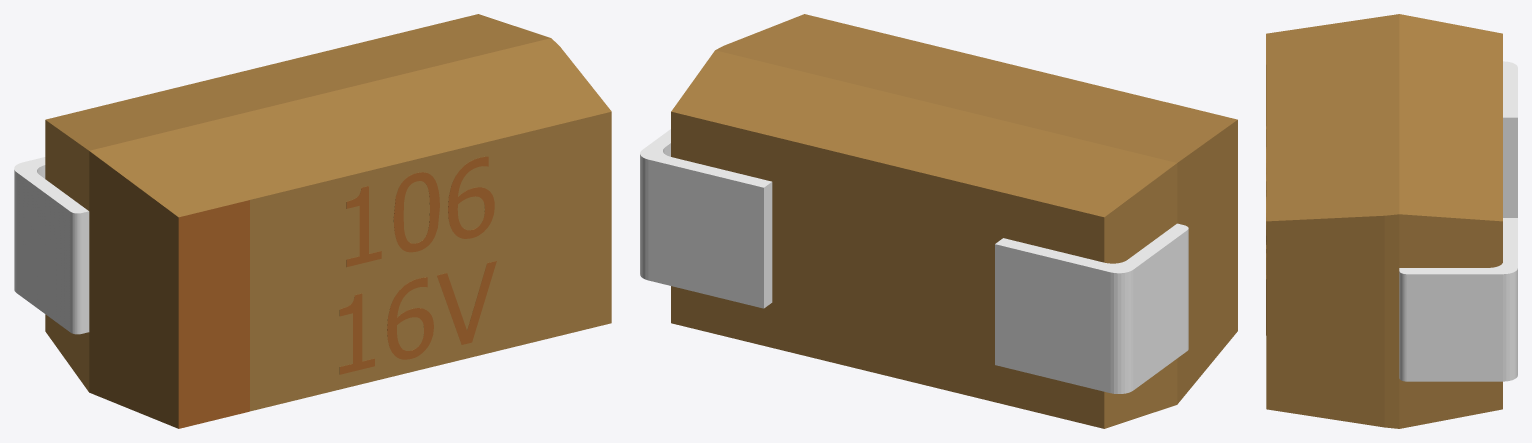
Rendered from tantalum 10uF.obj.
The picture shows the model from 3 angles, left to right: view 1: azimuth 30°, elevation 25°; view 2: azimuth 150°, elevation 25°; view 3: azimuth 270°, elevation 25°; orthographic projection. The views are drawn at different scales.
Parts seen in each view (by area): view 1: tantalum_10uF; view 2: tantalum_10uF; view 3: tantalum_10uF.
Part boxes in pixels (left/top/right/bottom): tantalum_10uF: left=14, top=14, right=611, bottom=428; tantalum_10uF: left=640, top=14, right=1237, bottom=428; tantalum_10uF: left=1266, top=14, right=1517, bottom=428.
Size of the model in its own units: 0.0149 by 0.00701 by 0.00746.
